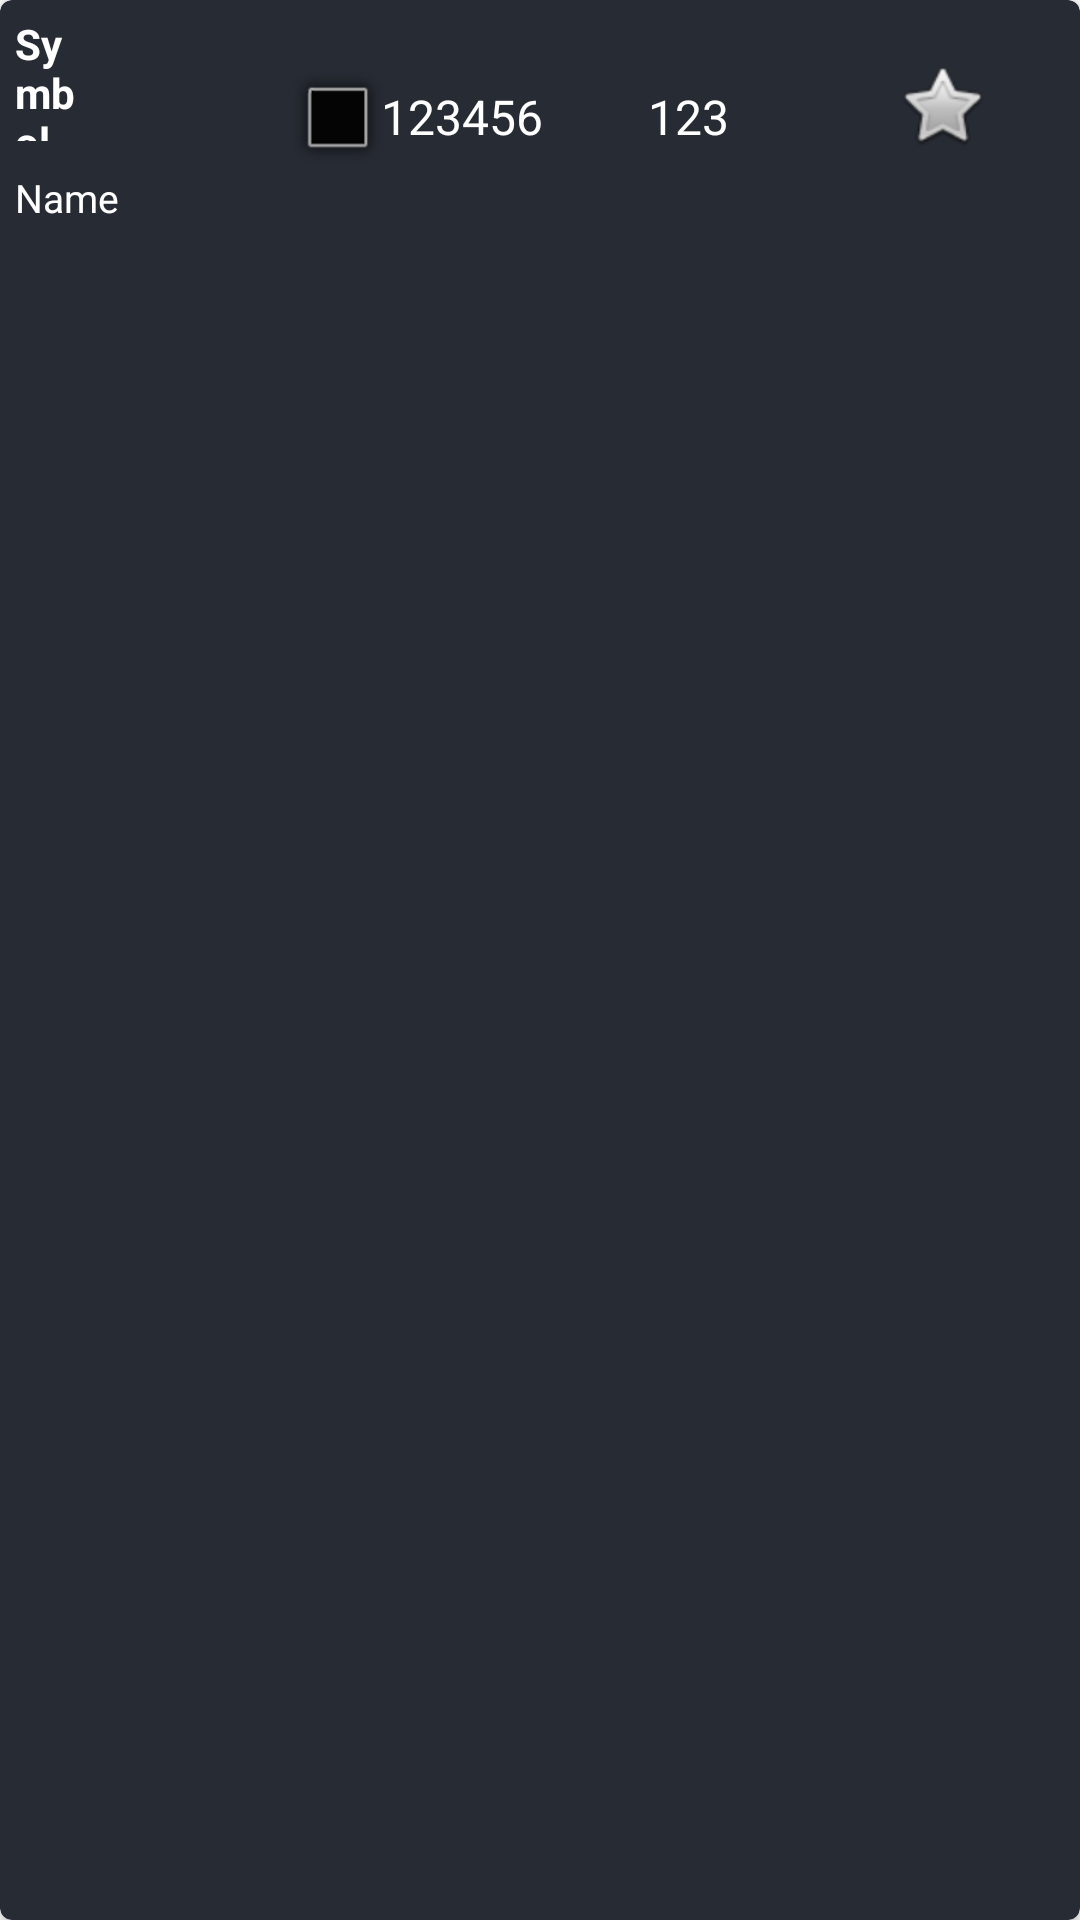

Named icons in this screenshot (1080 × 1920) and their bounding boxes, BBox(x1, y1, x2, y2):
star off: BBox(905, 68, 981, 141)
